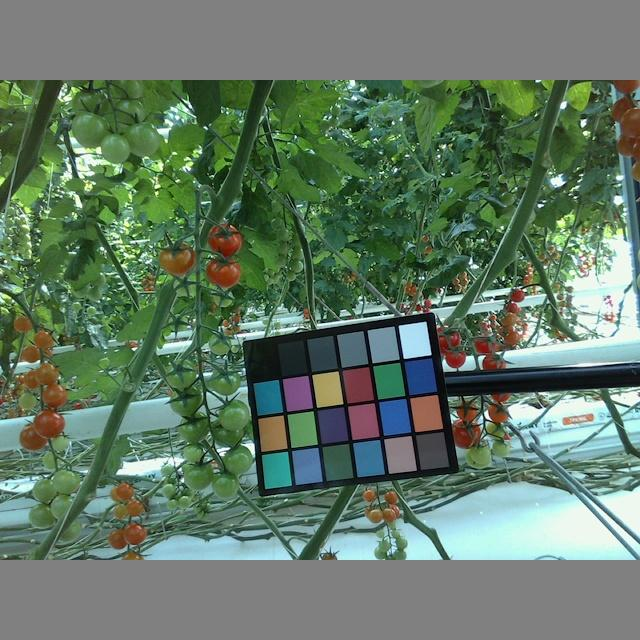green: (70, 88, 109, 126), (72, 109, 110, 147), (111, 100, 148, 135), (97, 132, 132, 167), (123, 124, 159, 158), (218, 399, 250, 433), (170, 381, 201, 416), (163, 357, 197, 388), (175, 413, 209, 443), (223, 444, 253, 476), (210, 468, 239, 501), (209, 367, 240, 395), (27, 503, 59, 530), (183, 466, 215, 489), (49, 494, 75, 522), (30, 478, 59, 503), (53, 469, 80, 495), (467, 443, 491, 469), (206, 333, 232, 356), (172, 274, 197, 297), (209, 287, 235, 309), (180, 441, 203, 464), (166, 311, 187, 330), (491, 438, 512, 457)
pink: (159, 240, 197, 275), (32, 409, 66, 440), (20, 420, 49, 452), (38, 380, 69, 408), (452, 421, 480, 450), (616, 105, 640, 138), (613, 132, 640, 160), (35, 360, 59, 386), (454, 401, 480, 424), (123, 523, 146, 546), (108, 527, 132, 549), (487, 402, 508, 424), (114, 481, 135, 502), (32, 330, 53, 350), (20, 345, 42, 363), (11, 314, 32, 332), (125, 498, 145, 516)
red: (208, 223, 241, 260), (205, 257, 240, 289), (435, 326, 462, 354), (481, 353, 508, 373), (473, 333, 497, 354), (445, 349, 466, 368)
